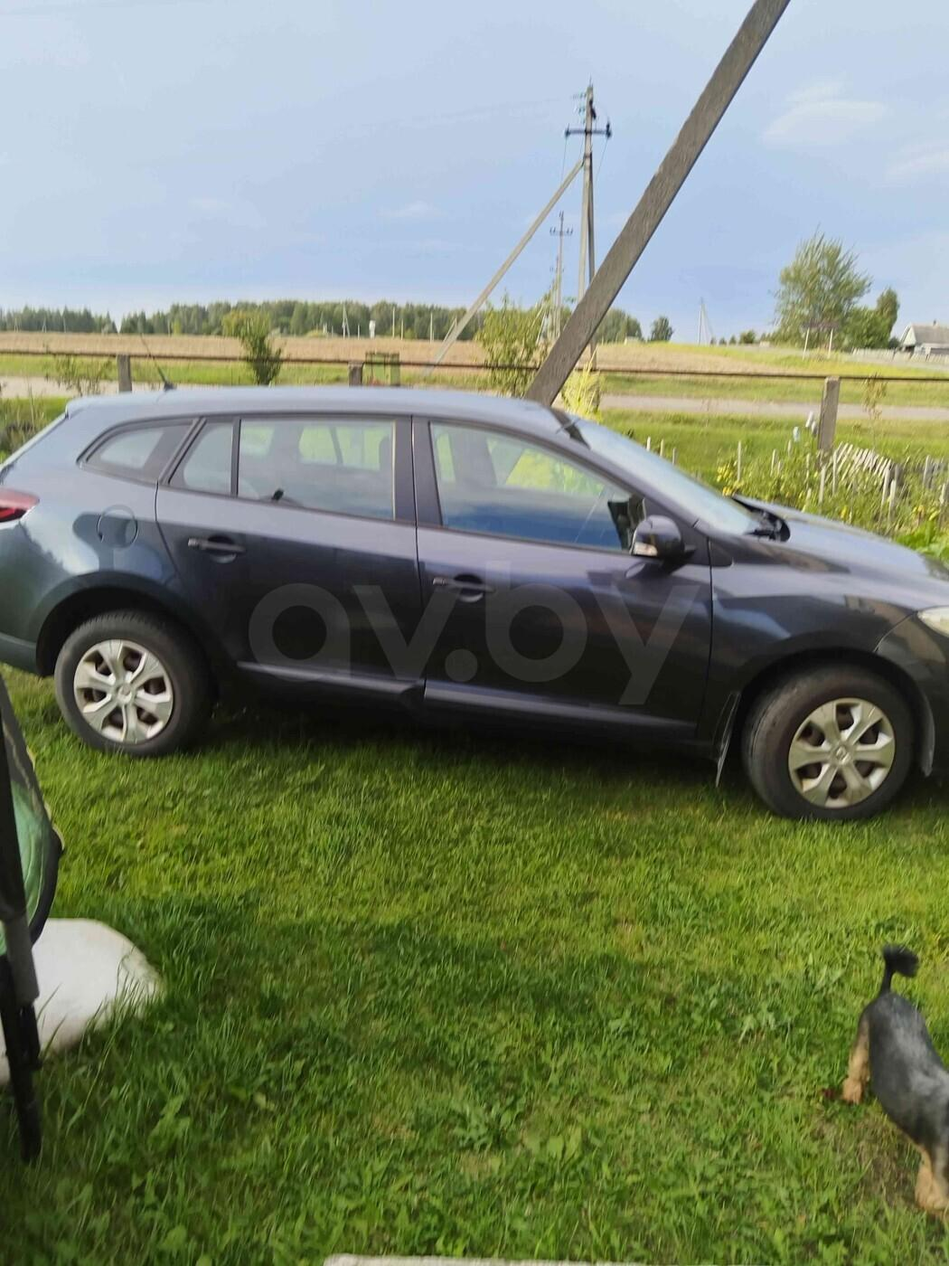Megane_2008-2014: (0, 380, 949, 846)
